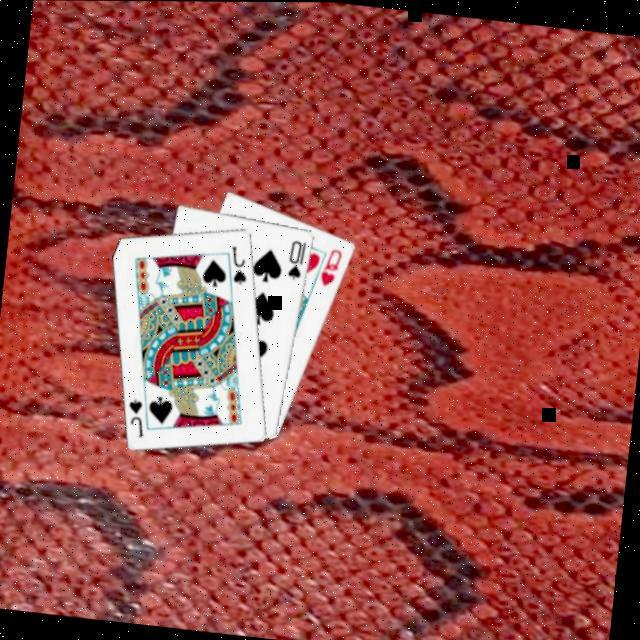10S: (282, 234, 307, 281)
JS: (223, 240, 251, 286), (120, 393, 148, 438)
QH: (314, 242, 344, 289)
